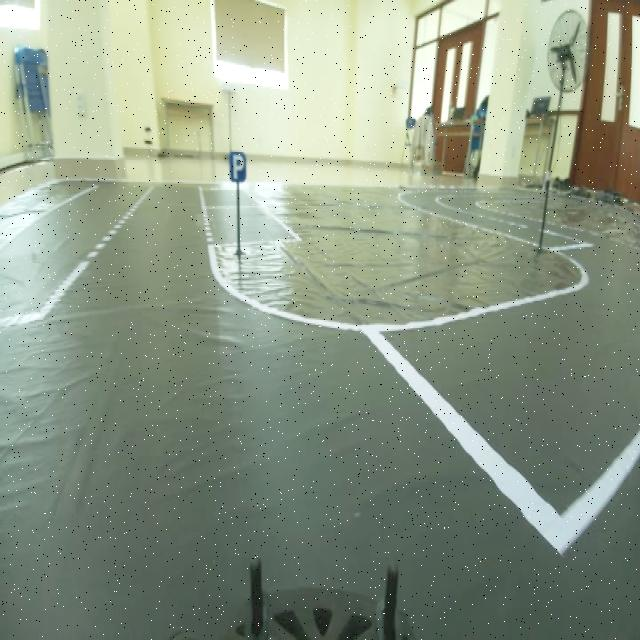parking: (220, 143, 250, 190)
